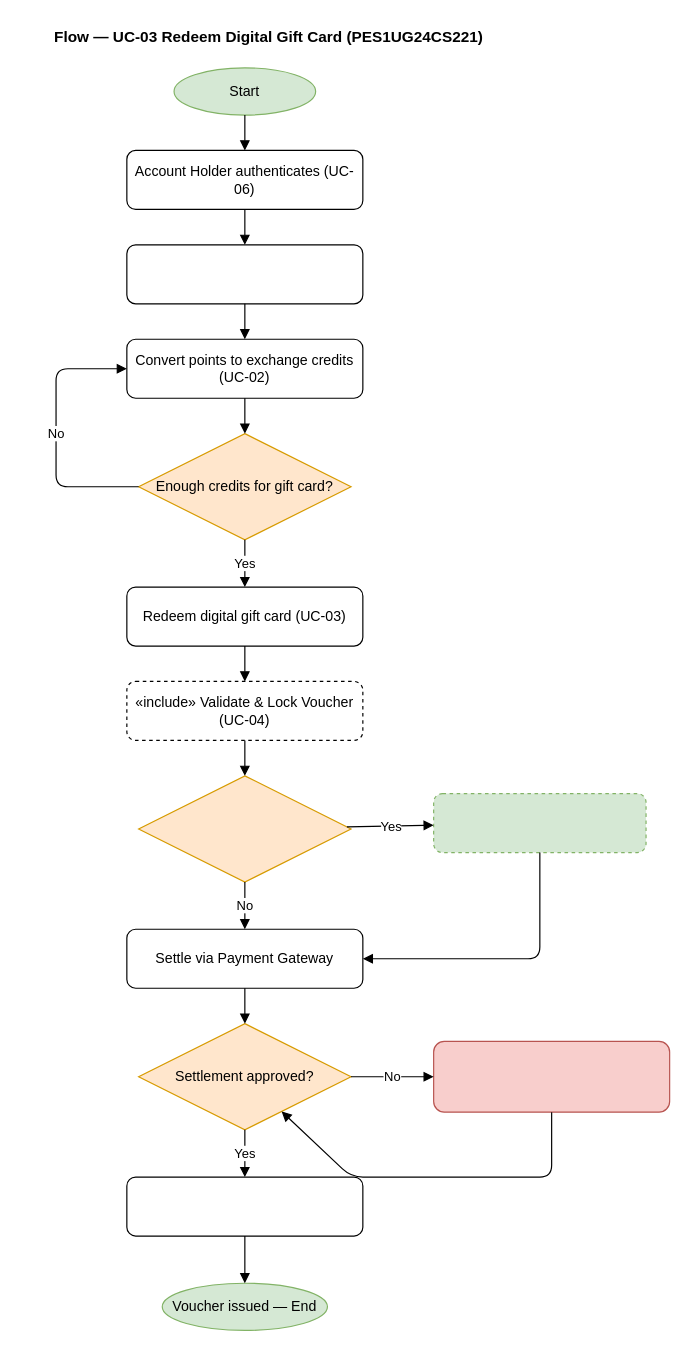
The diagram is 690 pixels wide and 1351 high, and some of its shapes have lost their labels. The shapes that lost their labels are listed below. From the top down, each one's centre as x and y in pixels, then its label:
the point at 244,274: Link & aggregate loyalty accounts (UC-01)
the point at 244,828: Promotion active?
the point at 539,822: «extend» Apply Promotional Bonus
the point at 551,1076: Roll back debit, release voucher, retry ≤ 2x
the point at 244,1206: Reconcile ledger + write audit log
